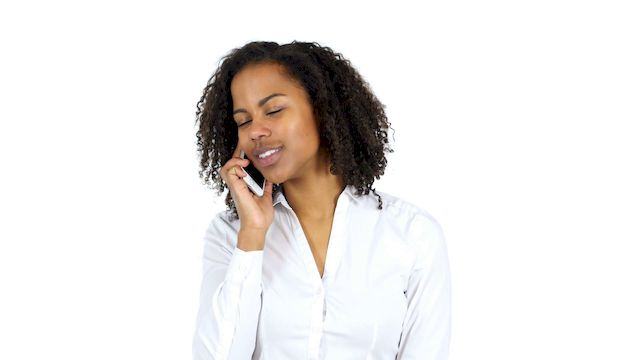phone: (231, 152, 272, 198)
talk: (219, 85, 305, 233)
